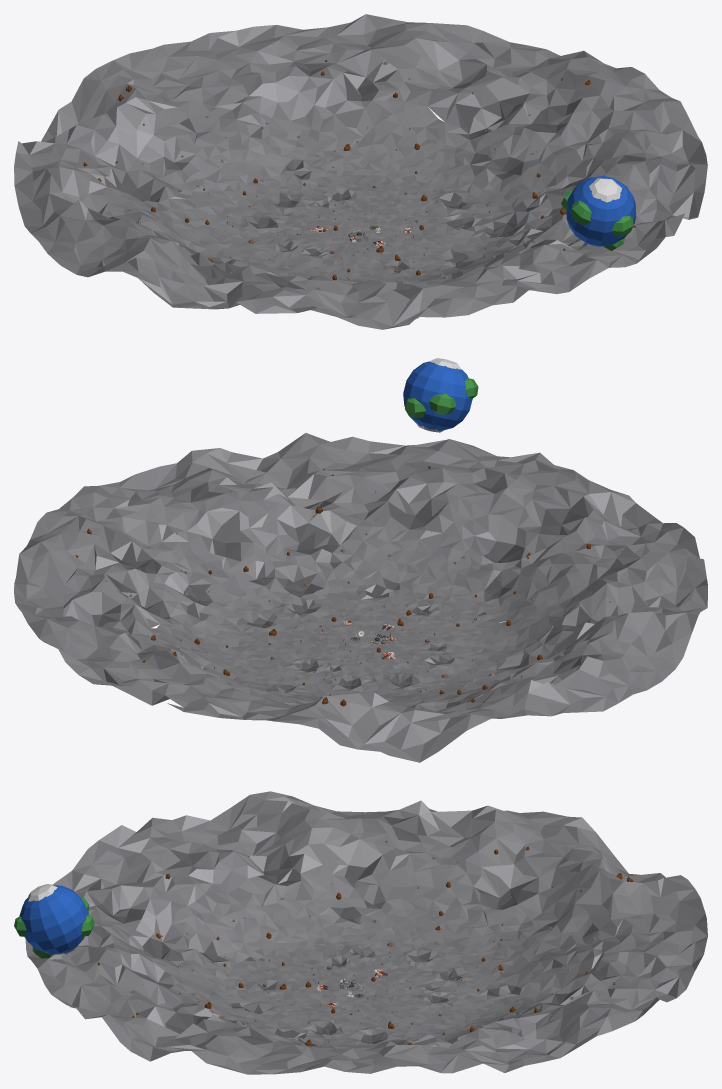
The model's file is world_space.glb.
The picture shows the model from 3 angles, top to bottom: view 1: azimuth 30°, elevation 25°; view 2: azimuth 150°, elevation 25°; view 3: azimuth 270°, elevation 25°; orthographic projection.
Parts seen in each view (by area): view 1: Sector5, Sector6, Sector4, Sector3, Sector7, Sector2, Sector1, Sector0; view 2: Sector2, Sector3, Sector1, Sector4, Sector0, Sector5, Sector7, Sector6; view 3: Sector7, Sector0, Sector6, Sector1, Sector2, Sector5, Sector3, Sector4.
Part boxes in pixels (x1,y1,x2,y2): Sector5: (186, 14, 465, 226); Sector6: (41, 41, 360, 227); Sector4: (361, 25, 658, 227); Sector3: (362, 89, 707, 240); Sector7: (14, 137, 360, 265); Sector2: (361, 176, 697, 294); Sector1: (256, 227, 528, 329); Sector0: (61, 226, 360, 313); Sector2: (263, 358, 539, 643); Sector3: (59, 448, 360, 643); Sector1: (361, 453, 699, 643); Sector4: (14, 508, 360, 656); Sector0: (362, 548, 707, 681); Sector5: (22, 612, 360, 711); Sector7: (361, 639, 661, 733); Sector6: (184, 644, 466, 762); Sector7: (351, 800, 599, 990); Sector0: (133, 791, 369, 990); Sector6: (367, 833, 707, 992); Sector1: (52, 825, 365, 992); Sector2: (14, 884, 365, 1051); Sector5: (367, 930, 707, 1036); Sector3: (131, 991, 377, 1074); Sector4: (352, 991, 600, 1073).
Bounding box in the file's own units: 1400 × 336 × 1423.
